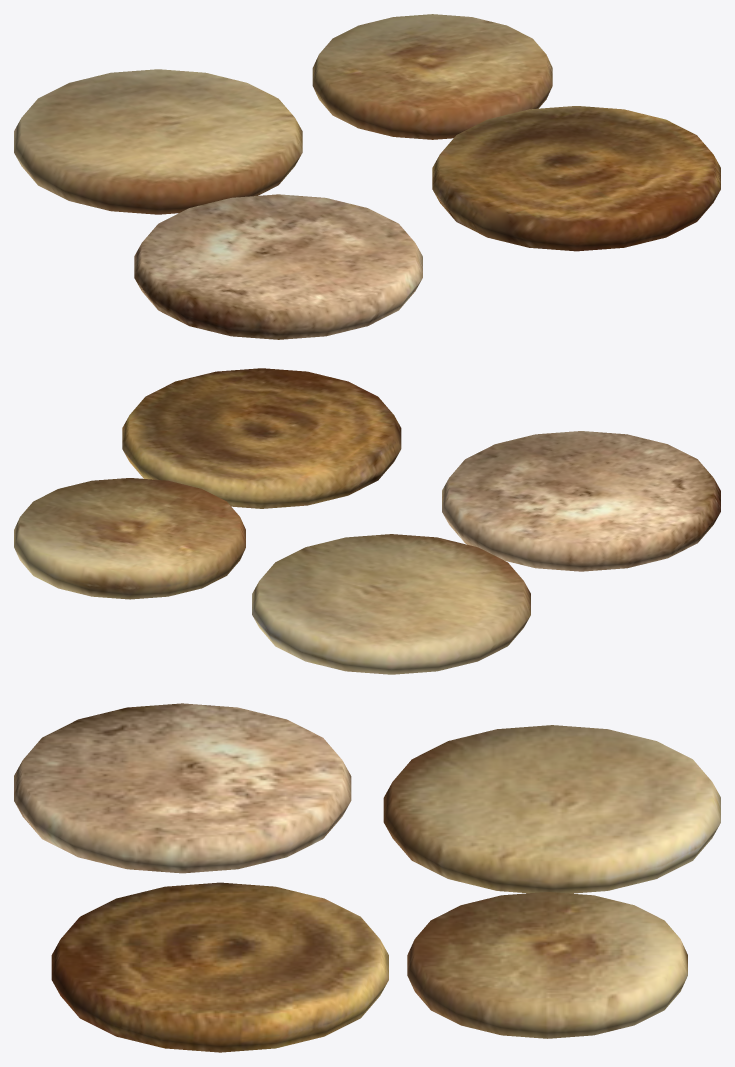
File: maqianzi.FBX
3 renders of one model, top to bottom at view 1: azimuth 30°, elevation 25°; view 2: azimuth 150°, elevation 25°; view 3: azimuth 270°, elevation 25°, orthographic. The views are drawn at different scales.
Visible parts, largest first — view 1: Cylinder003, Cylinder004, Cylinder001, Cylinder002; view 2: Cylinder001, Cylinder003, Cylinder004, Cylinder002; view 3: Cylinder004, Cylinder003, Cylinder001, Cylinder002.
Part boxes in pixels (bbox=[...]): Cylinder003: bbox=[134, 194, 422, 339]; Cylinder004: bbox=[432, 106, 720, 251]; Cylinder001: bbox=[14, 69, 302, 214]; Cylinder002: bbox=[312, 14, 552, 139]; Cylinder001: bbox=[252, 534, 530, 674]; Cylinder003: bbox=[442, 431, 720, 571]; Cylinder004: bbox=[122, 368, 401, 508]; Cylinder002: bbox=[14, 478, 245, 599]; Cylinder004: bbox=[51, 882, 388, 1052]; Cylinder003: bbox=[14, 703, 351, 873]; Cylinder001: bbox=[383, 725, 720, 893]; Cylinder002: bbox=[407, 892, 687, 1038].
Bounding box in the file's own units: 53.15 × 2.52 × 49.03.
1 material, 1 textured.
